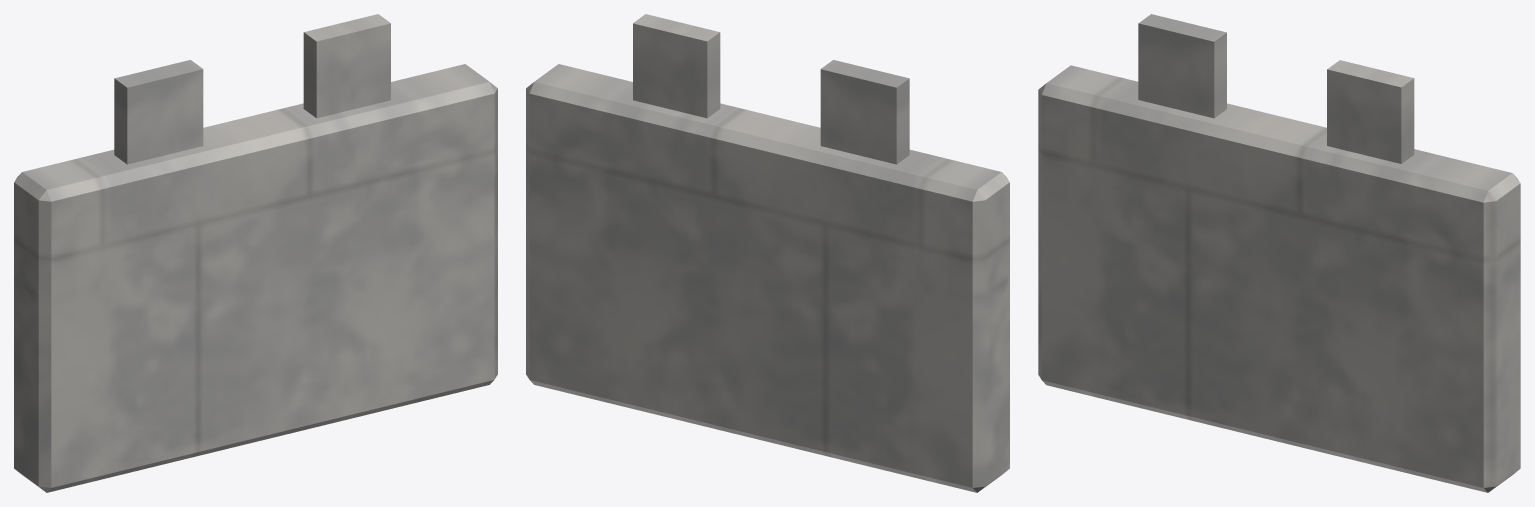
Rendered from Door_v01.fbx.
3 views of the same model, side by side, from view 1: azimuth 30°, elevation 25°; view 2: azimuth 150°, elevation 25°; view 3: azimuth 330°, elevation 25° (orthographic).
Parts seen in each view (by area): view 1: Door_Size_01; view 2: Door_Size_01; view 3: Door_Size_01.
Boxes of the visible parts, x1,y1,x2,y2 form: Door_Size_01: [14, 14, 497, 492]; Door_Size_01: [526, 14, 1009, 492]; Door_Size_01: [1038, 14, 1520, 492].
Bounding box in the file's own units: 18.13 × 14.33 × 2.31.
1 material, 1 textured.
